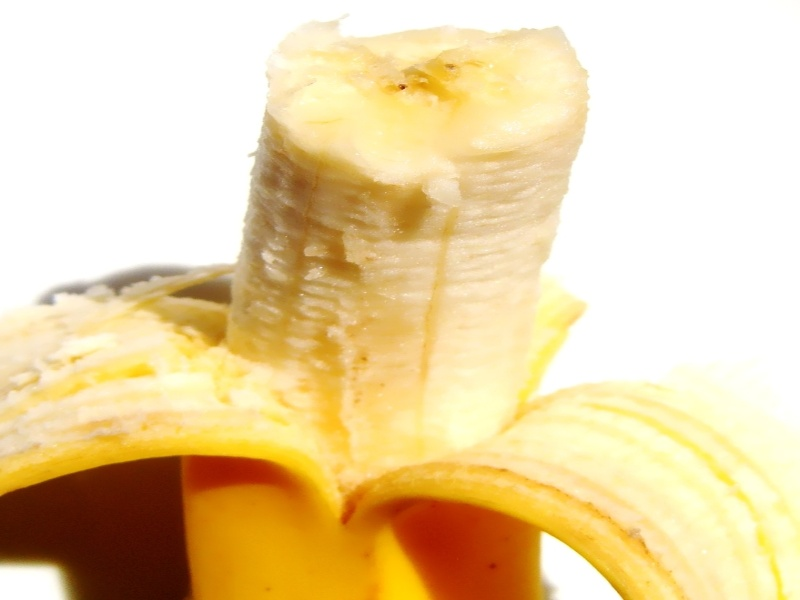banana: (1, 16, 800, 600), (243, 12, 622, 464)
